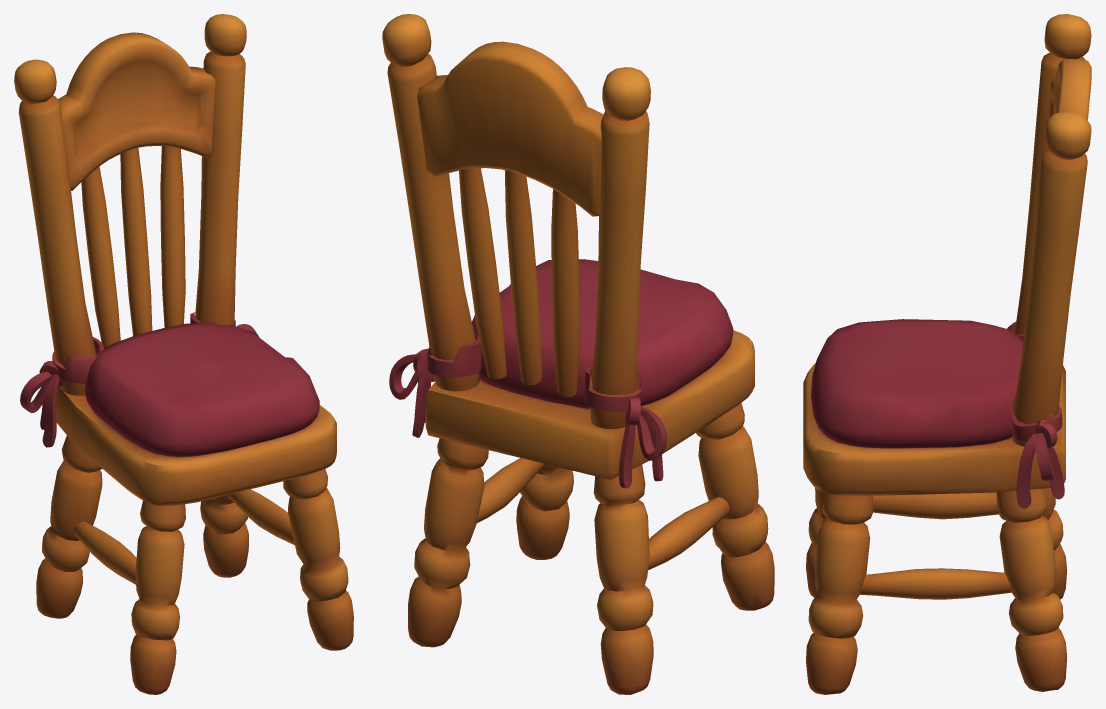
File: giant_chair_v2.glb
3 views of the same model, side by side, from view 1: azimuth 30°, elevation 25°; view 2: azimuth 150°, elevation 25°; view 3: azimuth 270°, elevation 25° (orthographic). The views are drawn at different scales.
Visible parts, largest first — view 1: giant_chair; view 2: giant_chair; view 3: giant_chair.
Part boxes in pixels (x1,y1,x2,y2): giant_chair: (14, 14, 353, 694); giant_chair: (382, 14, 774, 694); giant_chair: (803, 14, 1091, 694).
Size of the model in its own units: 4 by 8.85 by 4.
1 material, 1 textured.
